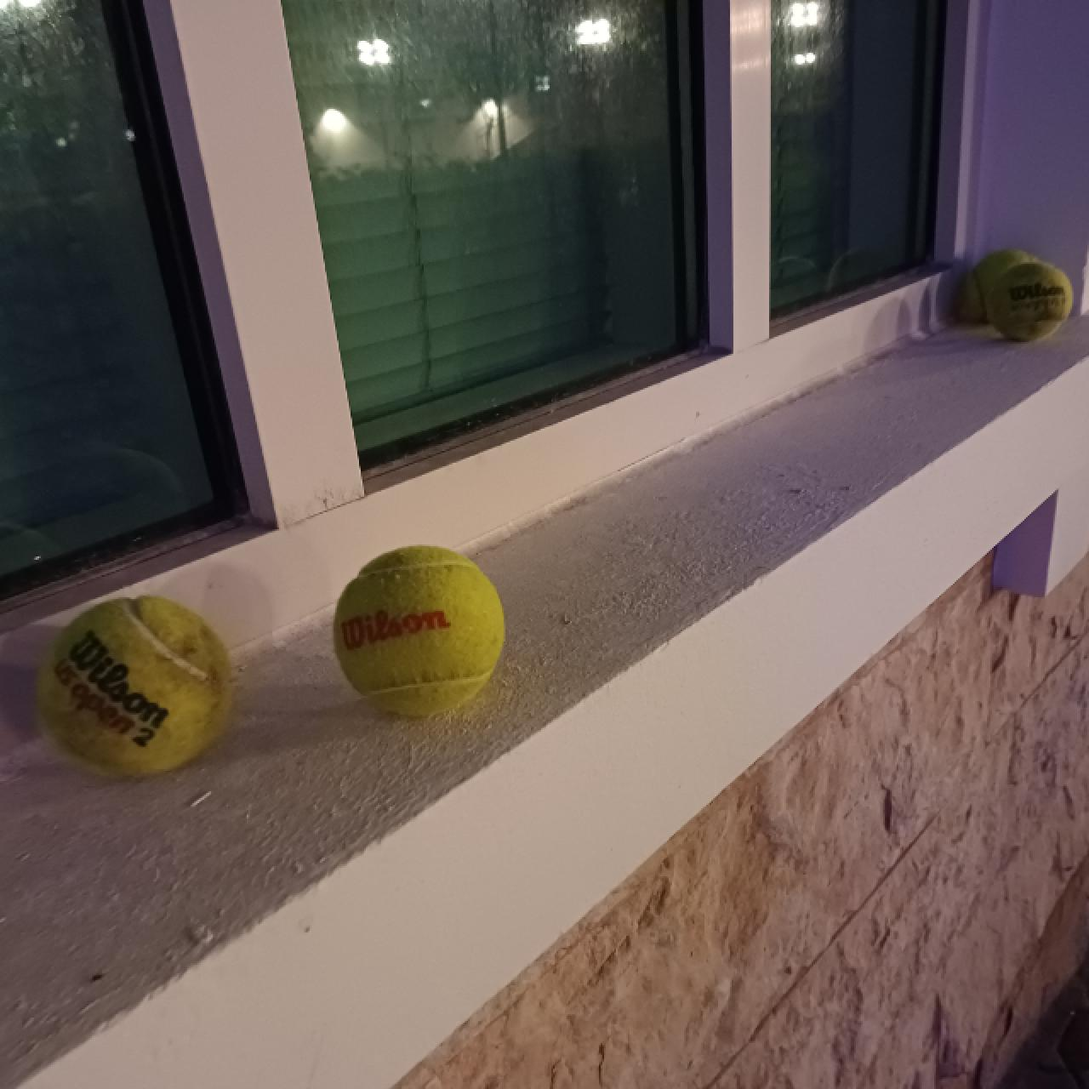tennis-ball: (34, 596, 229, 777), (331, 540, 504, 718), (987, 260, 1069, 342), (967, 248, 1043, 326)
